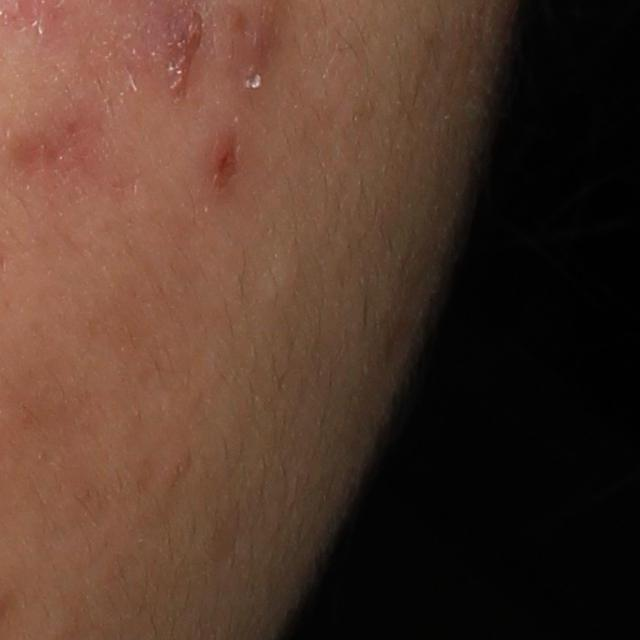papule: (199, 135, 245, 186)
